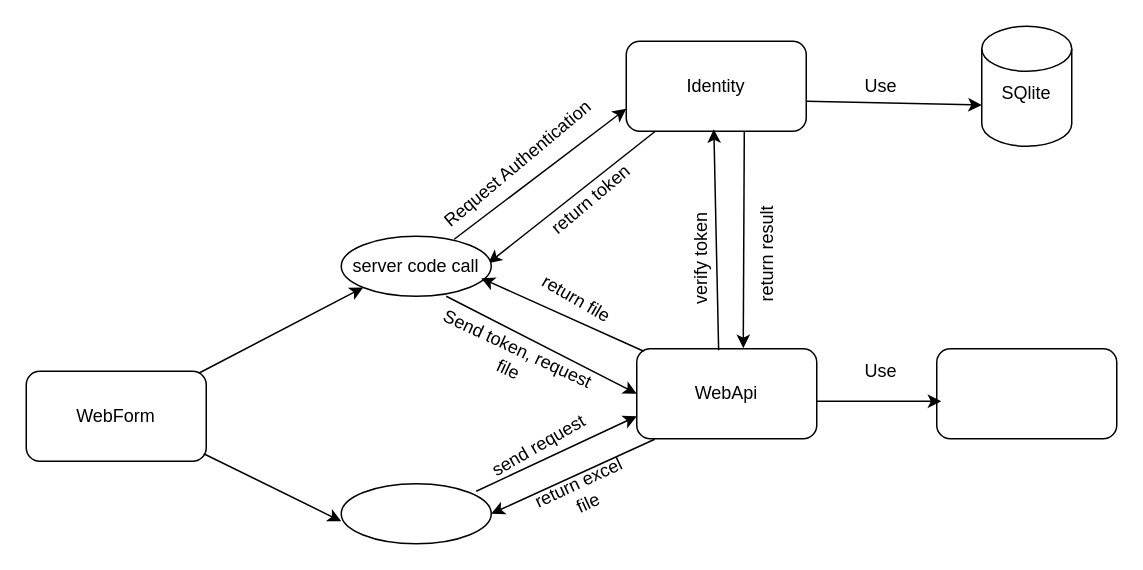
Some shapes in this 1143 by 570 pixel diagram are drawn without their labels. The shapes that lost their labels are listed below. From the top down, each one's centre as x and y in pixels, then its label:
(x=1026, y=393): ExportExcel library
(x=415, y=513): ajax call
